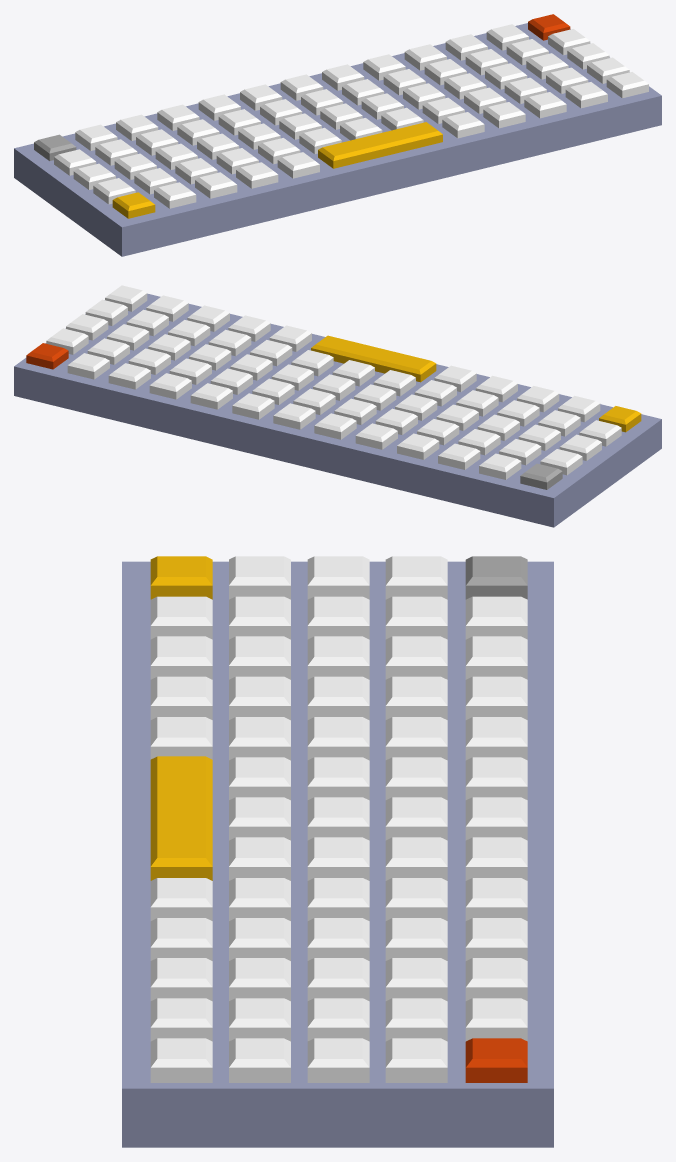
Rendered from Keyboard_2C.fbx.
The picture shows the model from 3 angles, top to bottom: view 1: azimuth 30°, elevation 25°; view 2: azimuth 150°, elevation 25°; view 3: azimuth 270°, elevation 25°; orthographic projection. The views are drawn at different scales.
Parts seen in each view (by area): view 1: Keyboard_2C; view 2: Keyboard_2C; view 3: Keyboard_2C.
Boxes of the visible parts, box(x1,y1,x2,y2) form: Keyboard_2C: box(14, 14, 661, 256); Keyboard_2C: box(14, 285, 661, 527); Keyboard_2C: box(122, 556, 553, 1147).
Bounding box in the file's own units: 0.3327 × 0.0236 × 0.1153.
